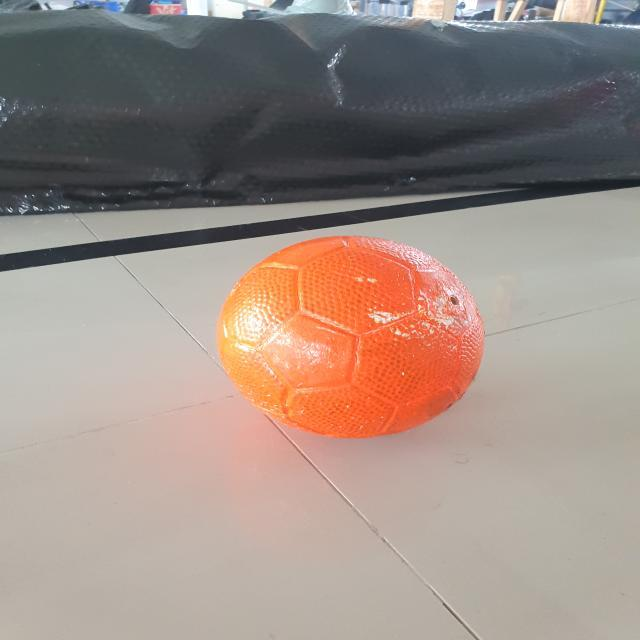bola: (167, 211, 494, 433)
